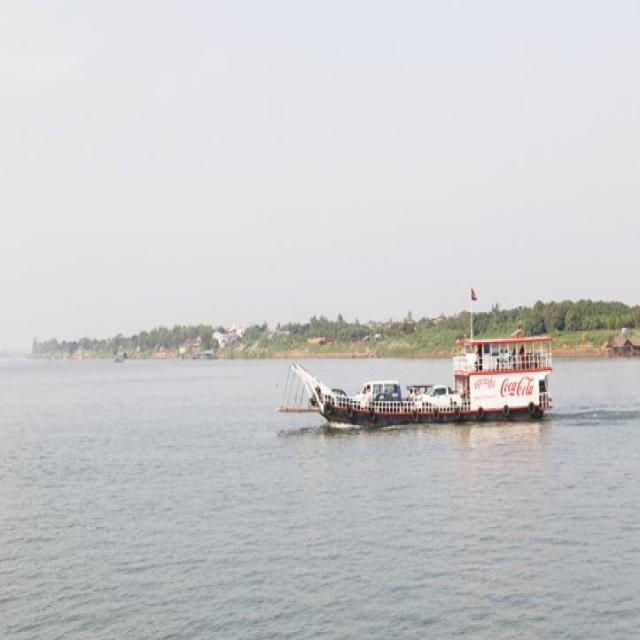cargoship: (271, 307, 559, 430)
